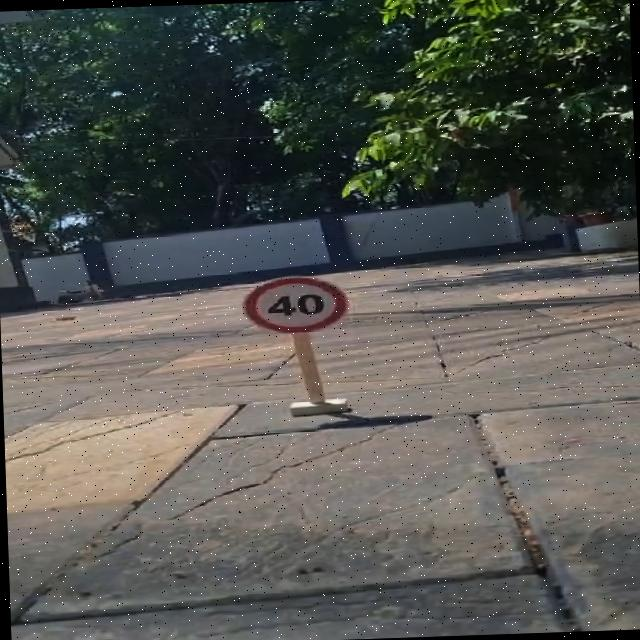Speed40: (236, 270, 352, 338)
